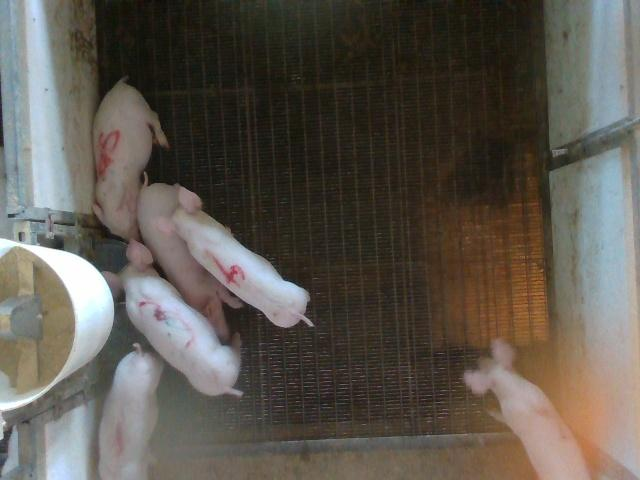pig-1: (99, 344, 164, 479)
pig-2: (465, 339, 590, 479)
pig-3: (102, 240, 241, 396)
pig-4: (155, 189, 312, 327)
pig-5: (92, 78, 169, 242)
